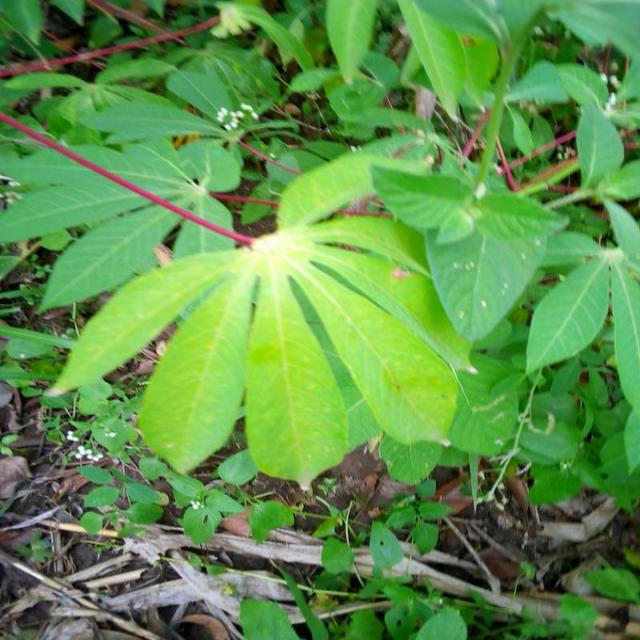cassava leaf: (43, 138, 478, 490)
